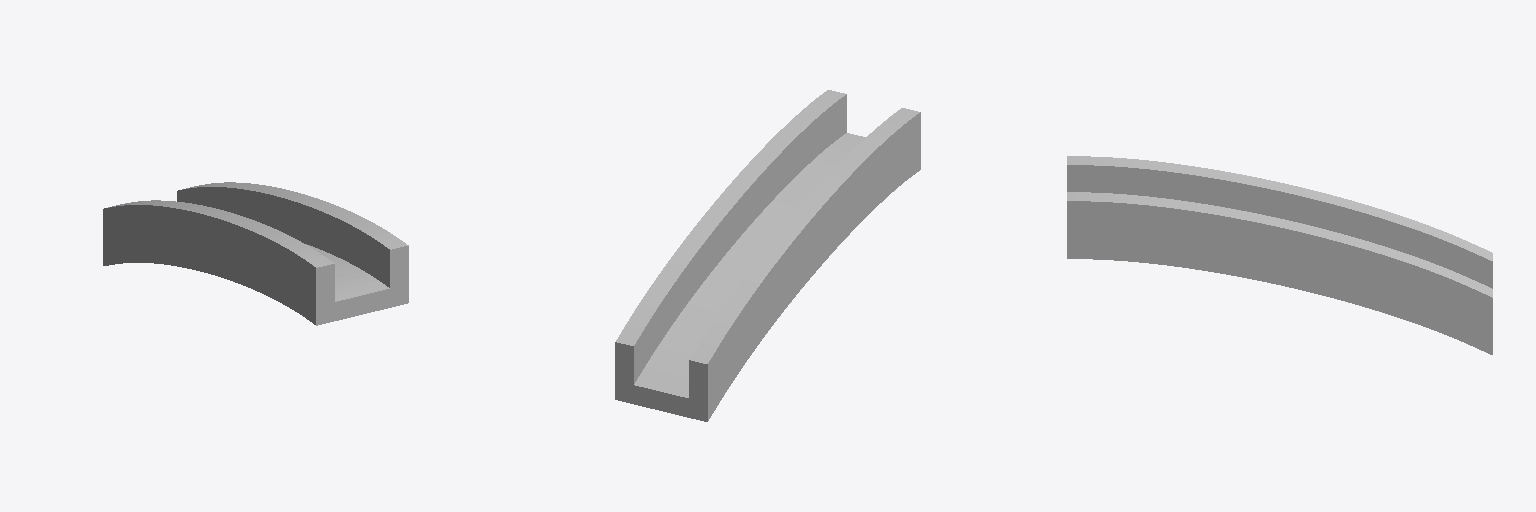
File: ThinRampTransitionUp.obj
The picture shows the model from 3 angles: view 1: azimuth 30°, elevation 25°; view 2: azimuth 150°, elevation 25°; view 3: azimuth 270°, elevation 25°; orthographic projection.
Parts seen in each view (by area): view 1: ThinRampTransitionUp; view 2: ThinRampTransitionUp; view 3: ThinRampTransitionUp.
Part boxes in pixels (bbox=[...]): ThinRampTransitionUp: bbox=[103, 182, 408, 325]; ThinRampTransitionUp: bbox=[615, 90, 920, 421]; ThinRampTransitionUp: bbox=[1067, 156, 1492, 354].
Size of the model in its own units: 1 by 1.6 by 4.